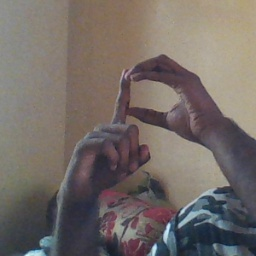P: (77, 52, 215, 195)
